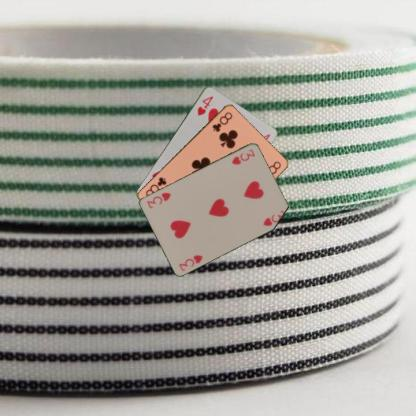3h: (176, 252, 204, 272), (229, 146, 256, 166)
4h: (195, 93, 214, 117)
8c: (210, 109, 233, 133)
